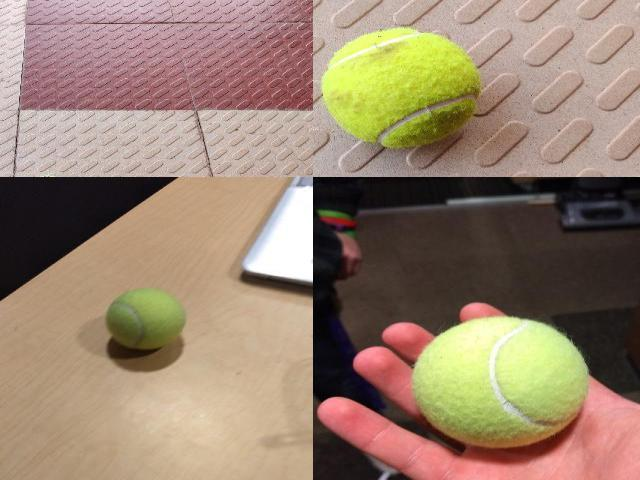tennis-ball: (412, 316, 590, 449), (320, 28, 480, 147), (104, 288, 184, 350)
